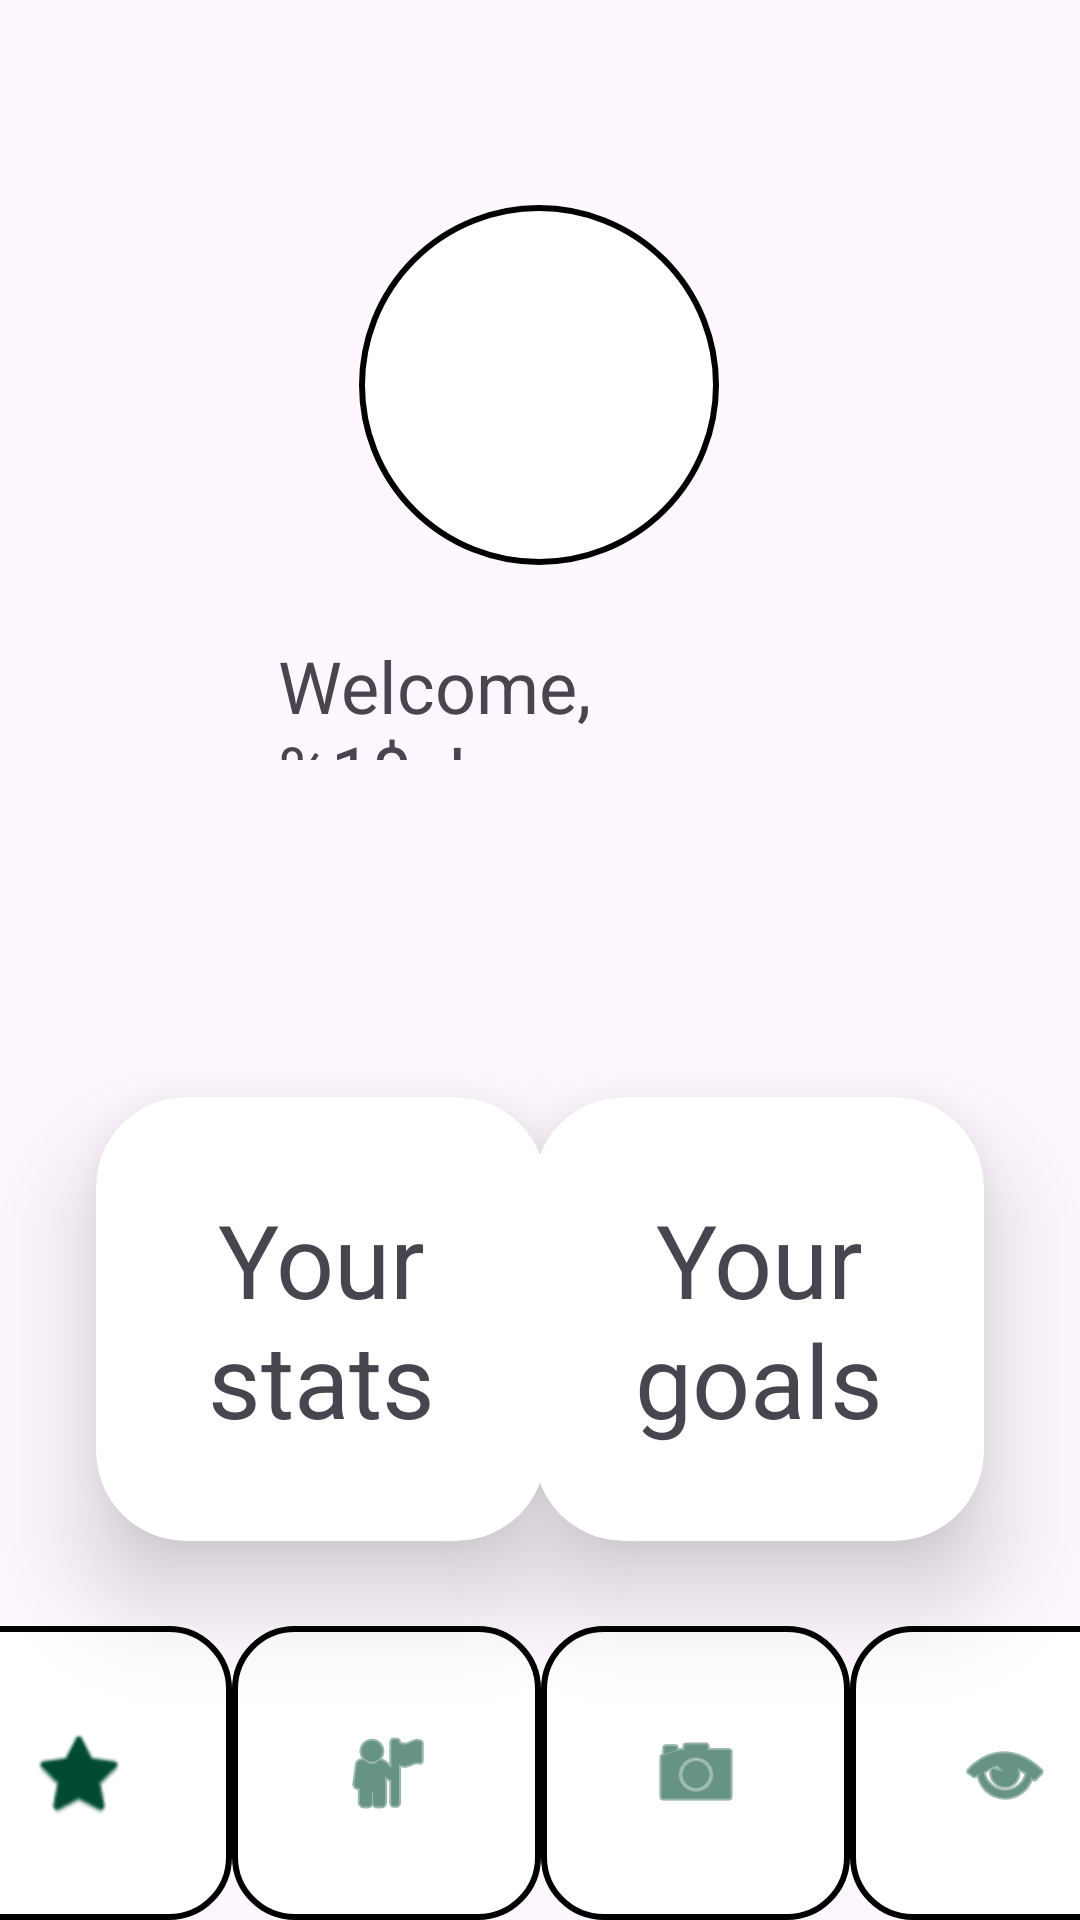

Icon click points for this 1080w x 1920h phone screenshot, format (x=x, y=y):
Camera: (x=695, y=1773)
